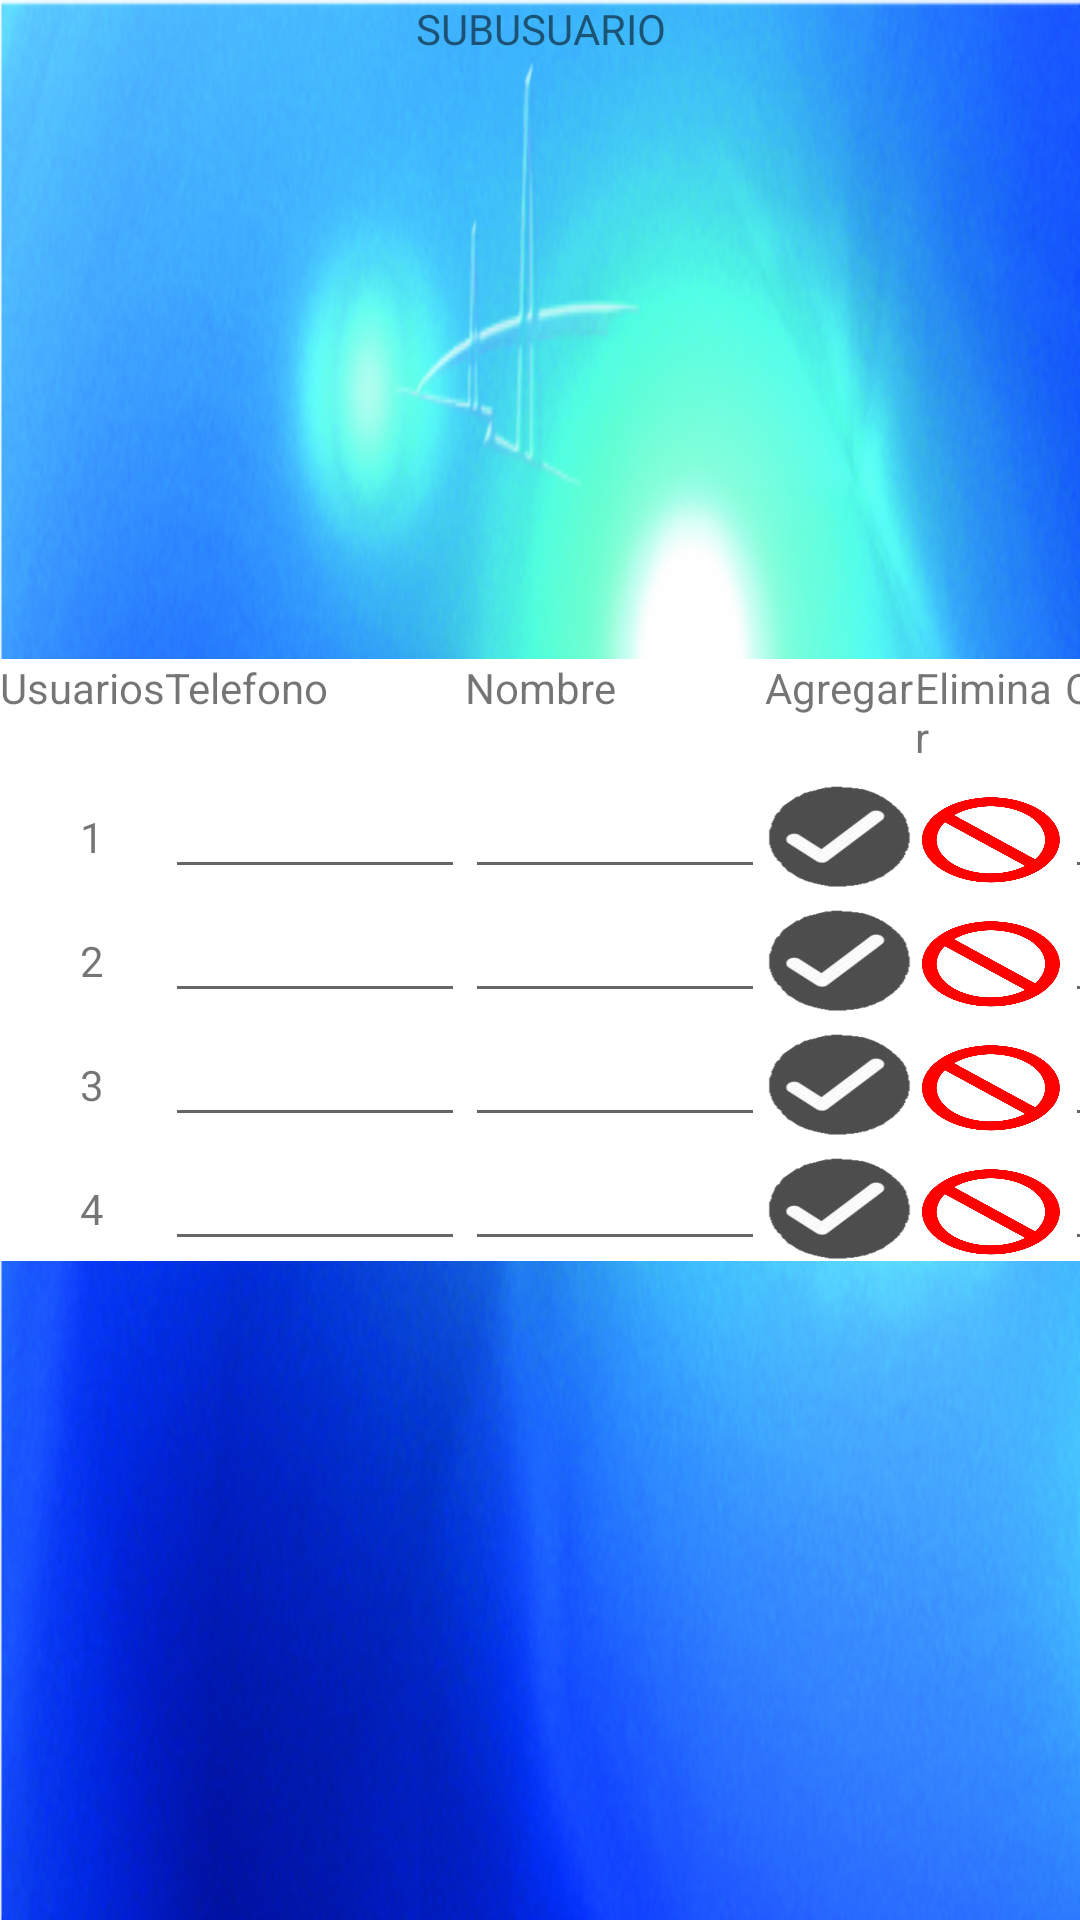

Named icons in this screenshot (1080px x 1920px) and their centers, (x=x, y=y):
cancel: (x=991, y=840), (x=991, y=964), (x=991, y=1088), (x=991, y=1212)
